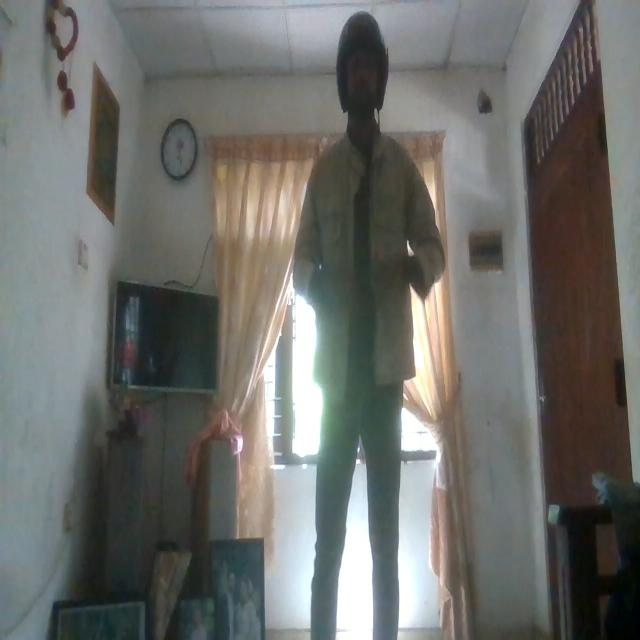Helmet_Wearer: (332, 11, 392, 142)
Jacket_Wearer: (290, 135, 446, 419)
Person: (293, 17, 446, 640)
